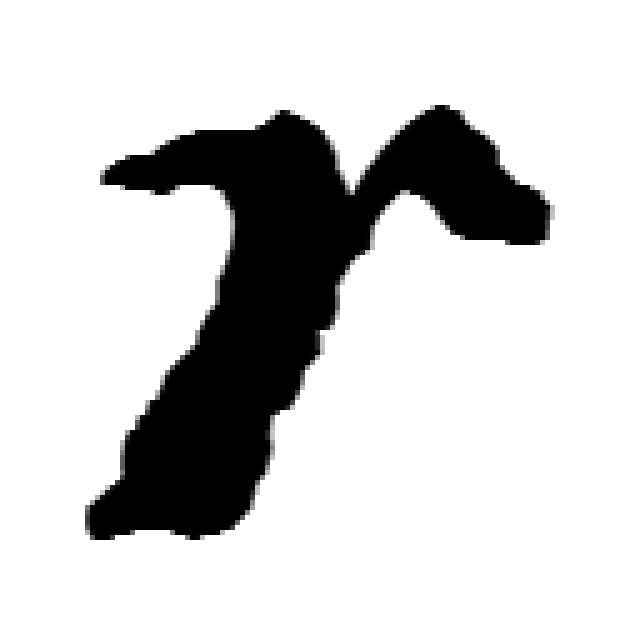R: (61, 118, 574, 534)
